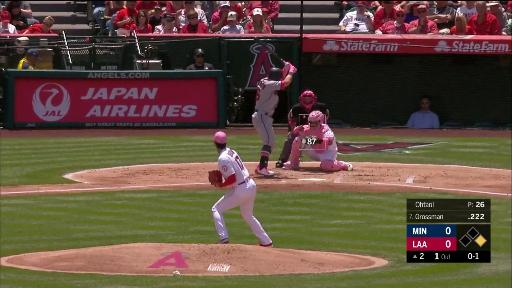pitcher: (206, 131, 274, 250)
